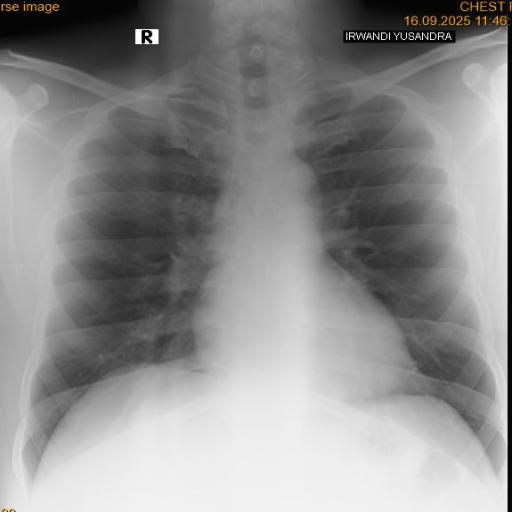kardiomegali: (16, 44, 508, 500)
